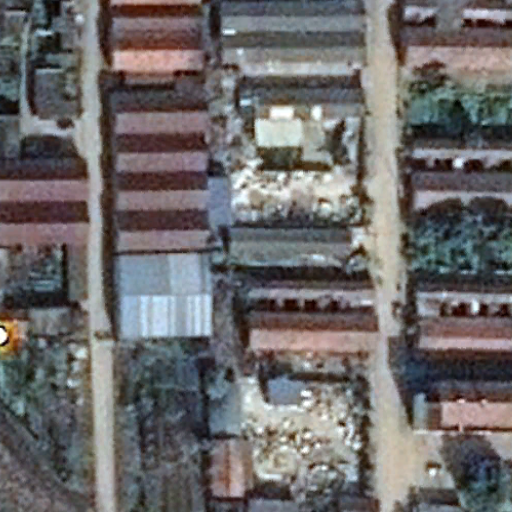msw: (248, 379, 362, 498), (232, 162, 360, 225)
